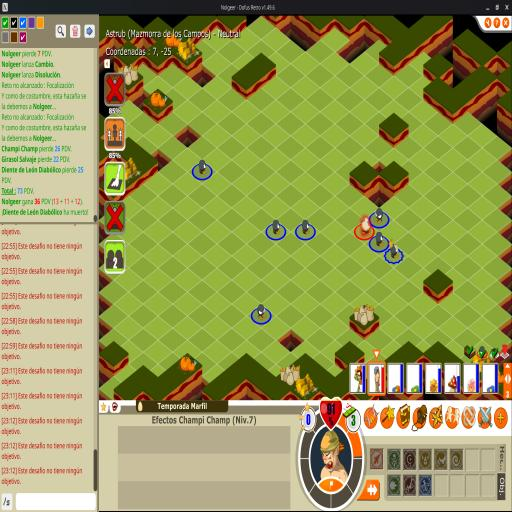Enemigos: (388, 238, 400, 260), (272, 219, 282, 235), (374, 208, 384, 224), (257, 304, 267, 320), (375, 231, 384, 248), (198, 158, 207, 174), (302, 219, 310, 235)
Personaje: (360, 216, 371, 236)
